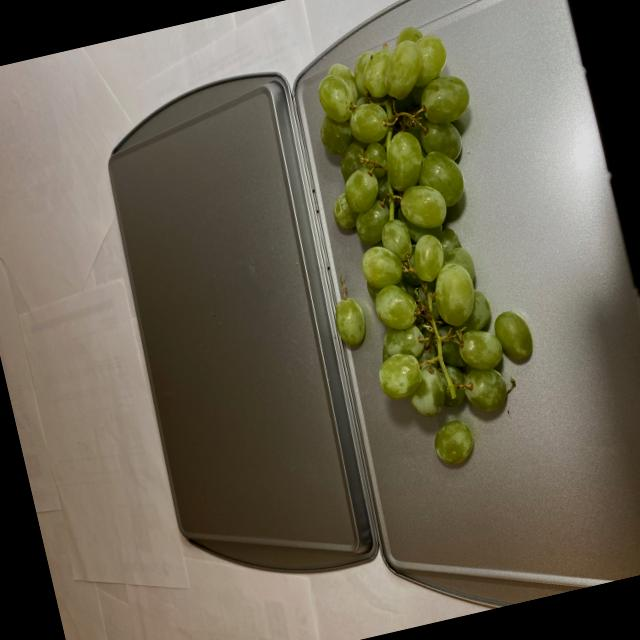grapes: (280, 23, 555, 484)
